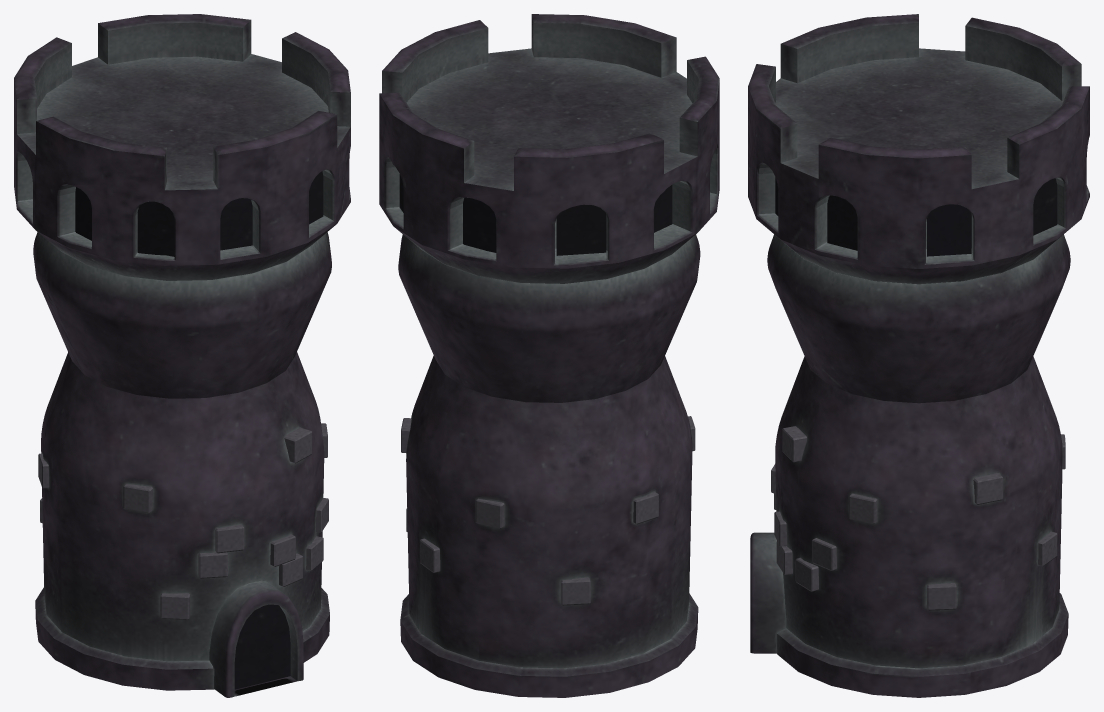
Rendered from Mage_Tower_lvl_2_op1.fbx.
The picture shows the model from 3 angles, left to right: view 1: azimuth 30°, elevation 25°; view 2: azimuth 150°, elevation 25°; view 3: azimuth 270°, elevation 25°; orthographic projection.
Visible parts, largest first — view 1: Cylinder.008_Baked; view 2: Cylinder.008_Baked; view 3: Cylinder.008_Baked.
Boxes of the visible parts, x1=… form: Cylinder.008_Baked: x1=14, y1=14, x2=350, y2=697; Cylinder.008_Baked: x1=379, y1=14, x2=719, y2=697; Cylinder.008_Baked: x1=748, y1=14, x2=1089, y2=697.
Size of the model in its own units: 97.11 by 173 by 97.11.
Materials: 1 (1 with a texture image).
